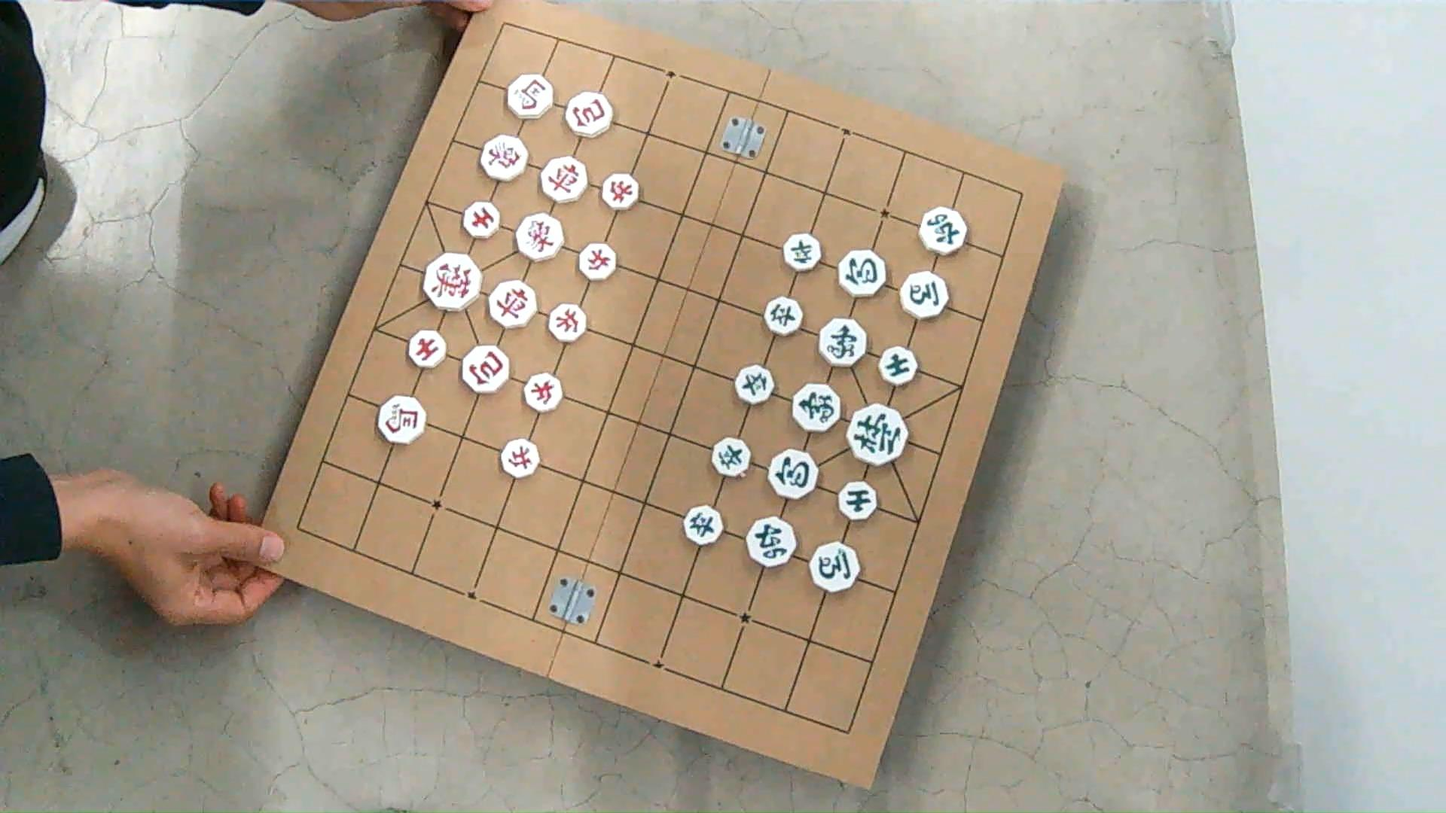cha_green: (746, 517, 795, 567), (919, 207, 966, 254)
cha_red: (539, 156, 588, 203), (488, 281, 535, 327)
jol_green: (711, 437, 750, 477), (682, 506, 721, 545), (735, 365, 773, 404), (783, 233, 821, 271), (764, 296, 801, 335)
jol_red: (548, 303, 586, 342), (523, 373, 561, 412), (501, 438, 538, 478), (578, 242, 615, 280), (602, 173, 639, 210)
ma_green: (810, 543, 859, 592), (900, 272, 947, 318)
ma_red: (377, 396, 425, 443), (506, 74, 553, 119)
po_green: (768, 449, 818, 499), (838, 250, 886, 297)
po_red: (462, 346, 508, 393), (566, 92, 612, 137)
sa_green: (837, 481, 877, 522), (879, 346, 918, 387)
sa_red: (407, 330, 445, 368), (463, 201, 499, 239)
sang_green: (792, 383, 840, 432), (819, 318, 866, 367)
sang_red: (515, 213, 562, 261), (480, 135, 526, 181)
wang_green: (847, 404, 907, 464)
wang_red: (423, 253, 480, 310)
